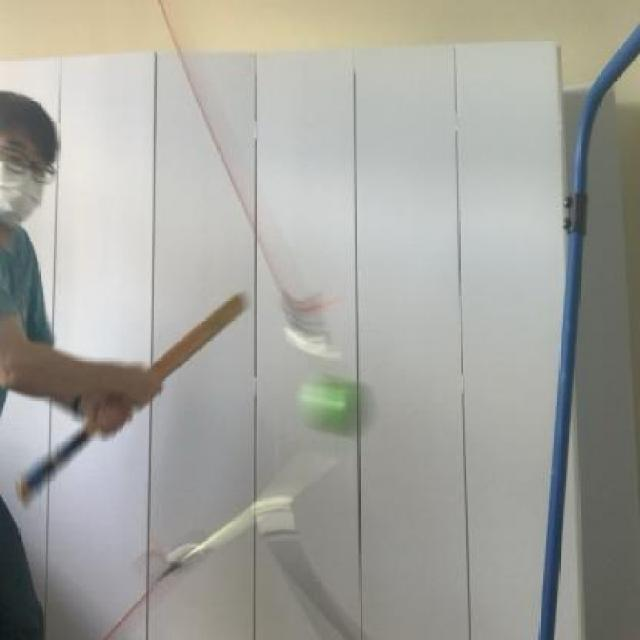baseball: (289, 372, 385, 454)
